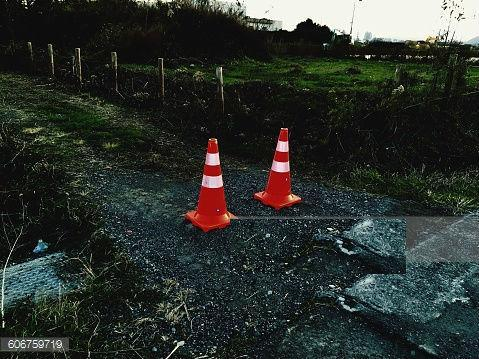Cone: (187, 137, 236, 231), (253, 126, 303, 211)
